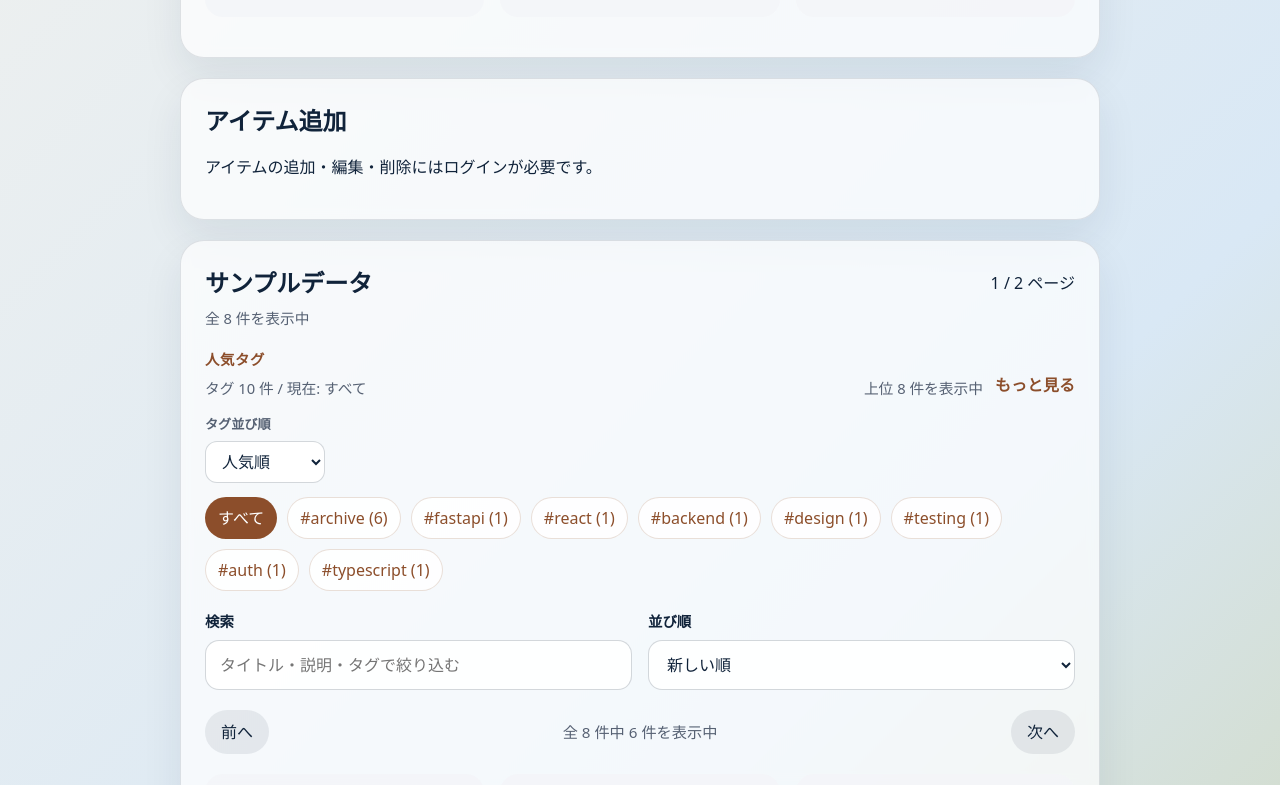
Test: App › expands the tag list when more tags are requested
(page scrolled)
Expected: the button "#python (1)" is not shown
Click the button "もっと見る". click: (1035, 385)
box: [995,373,1075,397]
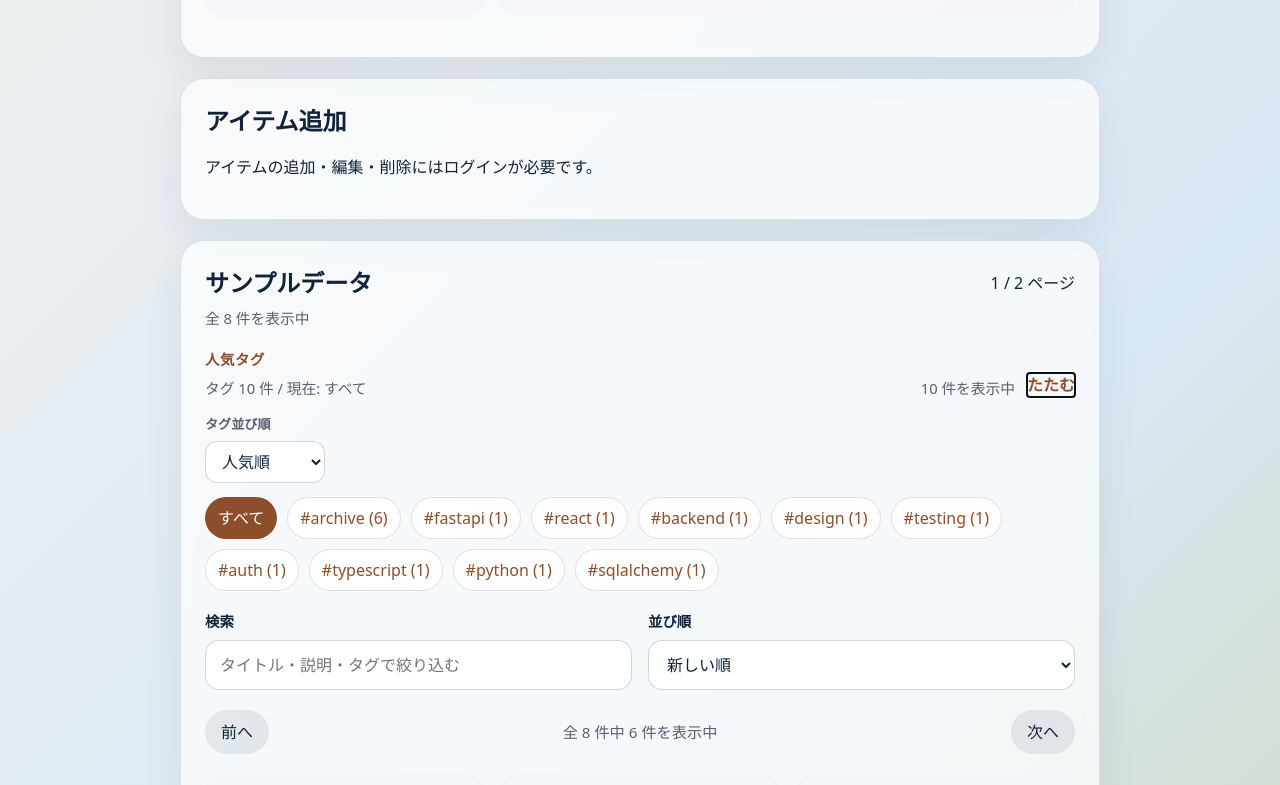
Expected: the button "#python (1)" is shown, [453,549,565,591]
Expected: the button "#sqlalchemy (1)" is shown, [575,549,718,591]
Expected: the button "たたむ" is shown, [1027,373,1075,397]
